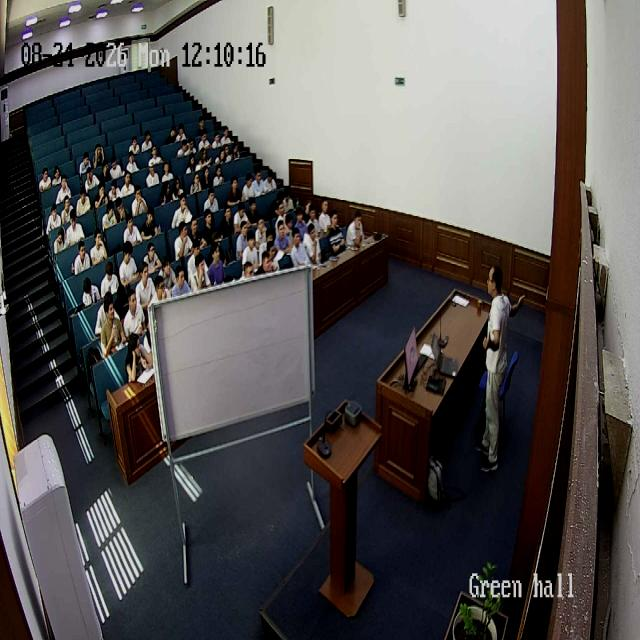person: (477, 265, 525, 472), (98, 298, 126, 358), (124, 332, 152, 383), (122, 288, 147, 342), (135, 262, 157, 312), (62, 205, 84, 247), (302, 221, 322, 267), (207, 241, 227, 286), (290, 222, 310, 267), (189, 252, 211, 292), (240, 228, 260, 272), (119, 243, 138, 289), (273, 220, 293, 263), (345, 210, 365, 250), (174, 220, 193, 262), (328, 211, 346, 255), (100, 262, 119, 300), (142, 241, 162, 277), (171, 265, 192, 299), (219, 202, 237, 241), (171, 195, 192, 228), (90, 228, 108, 266), (73, 238, 91, 276), (123, 212, 142, 248), (203, 183, 222, 219), (201, 206, 219, 243), (82, 163, 104, 191), (82, 274, 100, 308), (142, 207, 160, 241), (106, 150, 124, 184), (188, 216, 204, 253), (118, 182, 136, 214), (270, 191, 287, 224), (46, 202, 62, 236), (75, 182, 91, 216), (132, 184, 148, 217), (242, 170, 258, 202), (56, 174, 72, 206), (102, 201, 118, 232), (153, 274, 171, 301), (227, 174, 243, 204), (261, 168, 278, 196), (117, 166, 132, 196), (318, 200, 332, 232), (257, 215, 271, 246), (78, 153, 94, 180), (146, 159, 160, 189), (125, 132, 141, 158), (194, 115, 211, 139), (54, 227, 68, 256), (173, 117, 189, 142), (122, 151, 138, 176), (147, 143, 163, 168), (308, 205, 322, 233), (161, 156, 174, 186), (106, 180, 122, 204), (38, 166, 52, 193), (92, 142, 107, 166), (212, 160, 225, 187), (156, 178, 169, 204), (235, 202, 247, 230), (95, 183, 109, 206), (166, 125, 179, 149), (196, 148, 210, 170), (141, 131, 154, 154), (296, 202, 306, 230), (220, 121, 232, 144), (183, 153, 196, 174), (185, 129, 195, 156), (283, 188, 297, 206), (230, 138, 240, 162), (192, 169, 202, 193), (248, 198, 258, 222), (200, 128, 210, 151), (200, 166, 210, 189), (98, 163, 110, 181), (173, 177, 183, 197), (224, 142, 231, 168), (212, 128, 221, 148), (177, 139, 186, 157), (218, 147, 227, 163)
